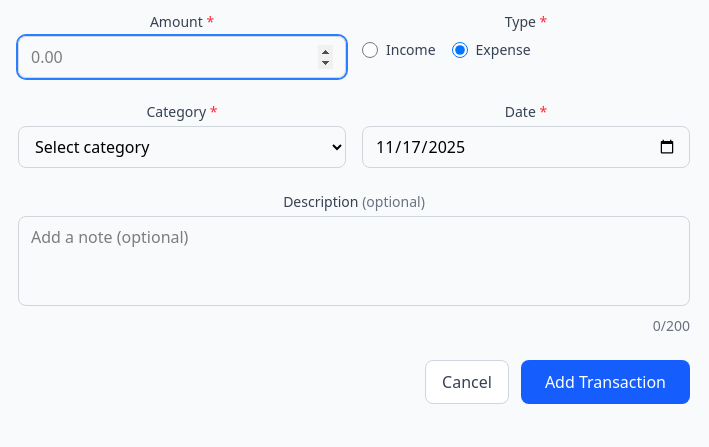
Test: TransactionForm › Validation › should show error when category is not selected
Note: Fill amount and trigger submit
In the number field labelled "Amount *": (182, 57) [18,36,346,78], type "100"
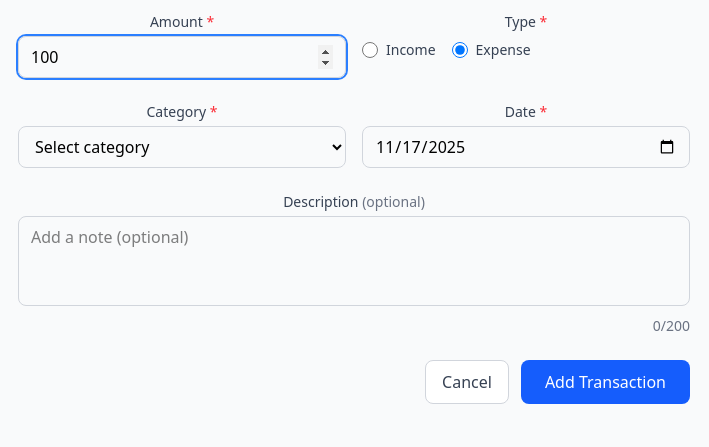
Click the button "Add Transaction": (605, 382) [521,360,690,404]
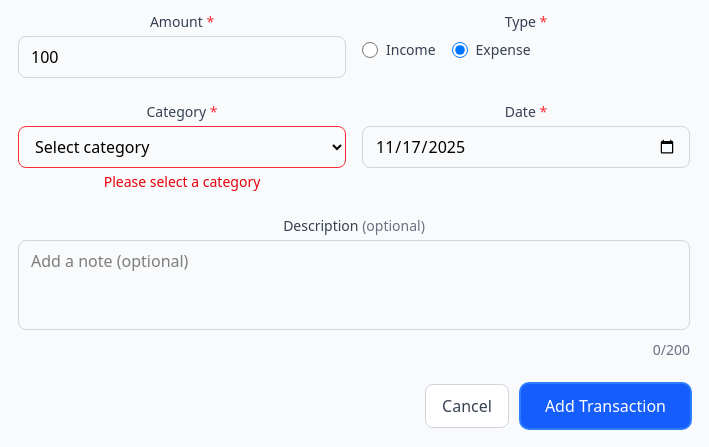
Now the text "Please select a category" is shown, box [104,172,260,191]
